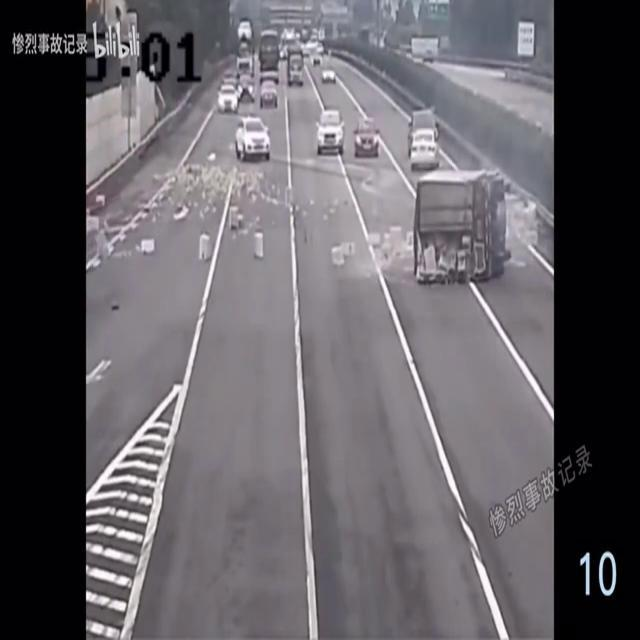single accident: (375, 147, 525, 300)
